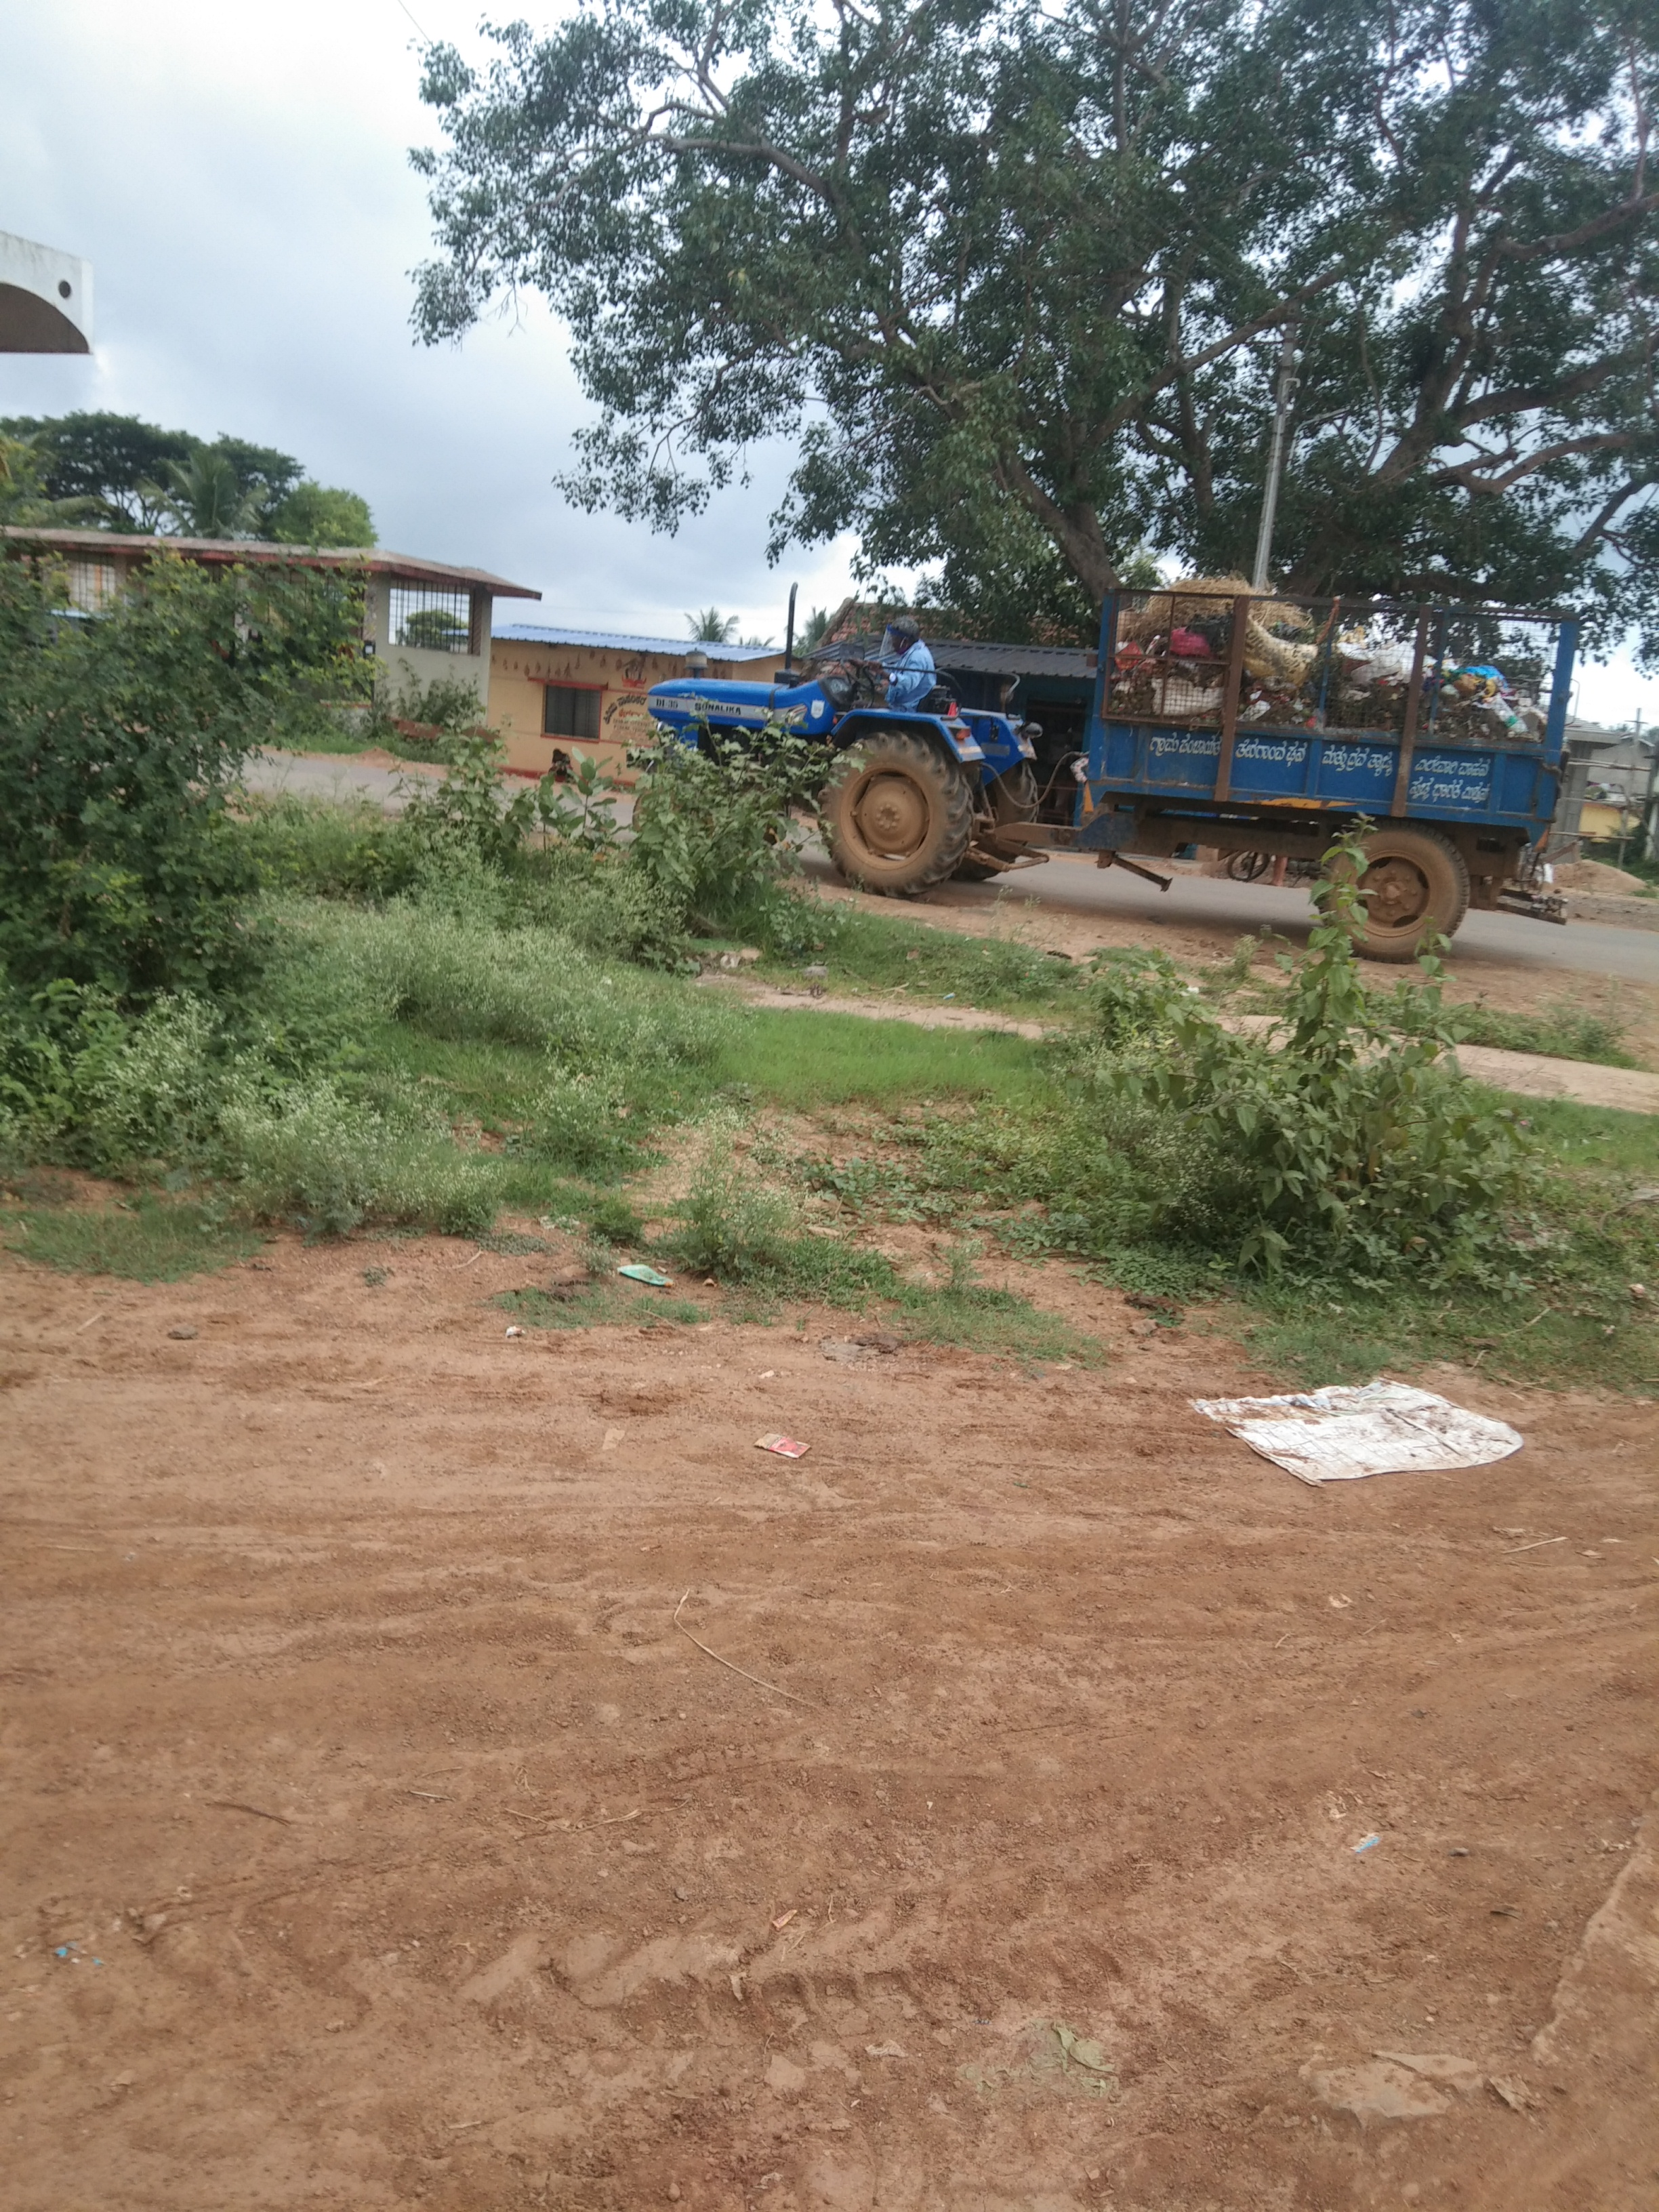tractor: (622, 578, 1589, 968)
